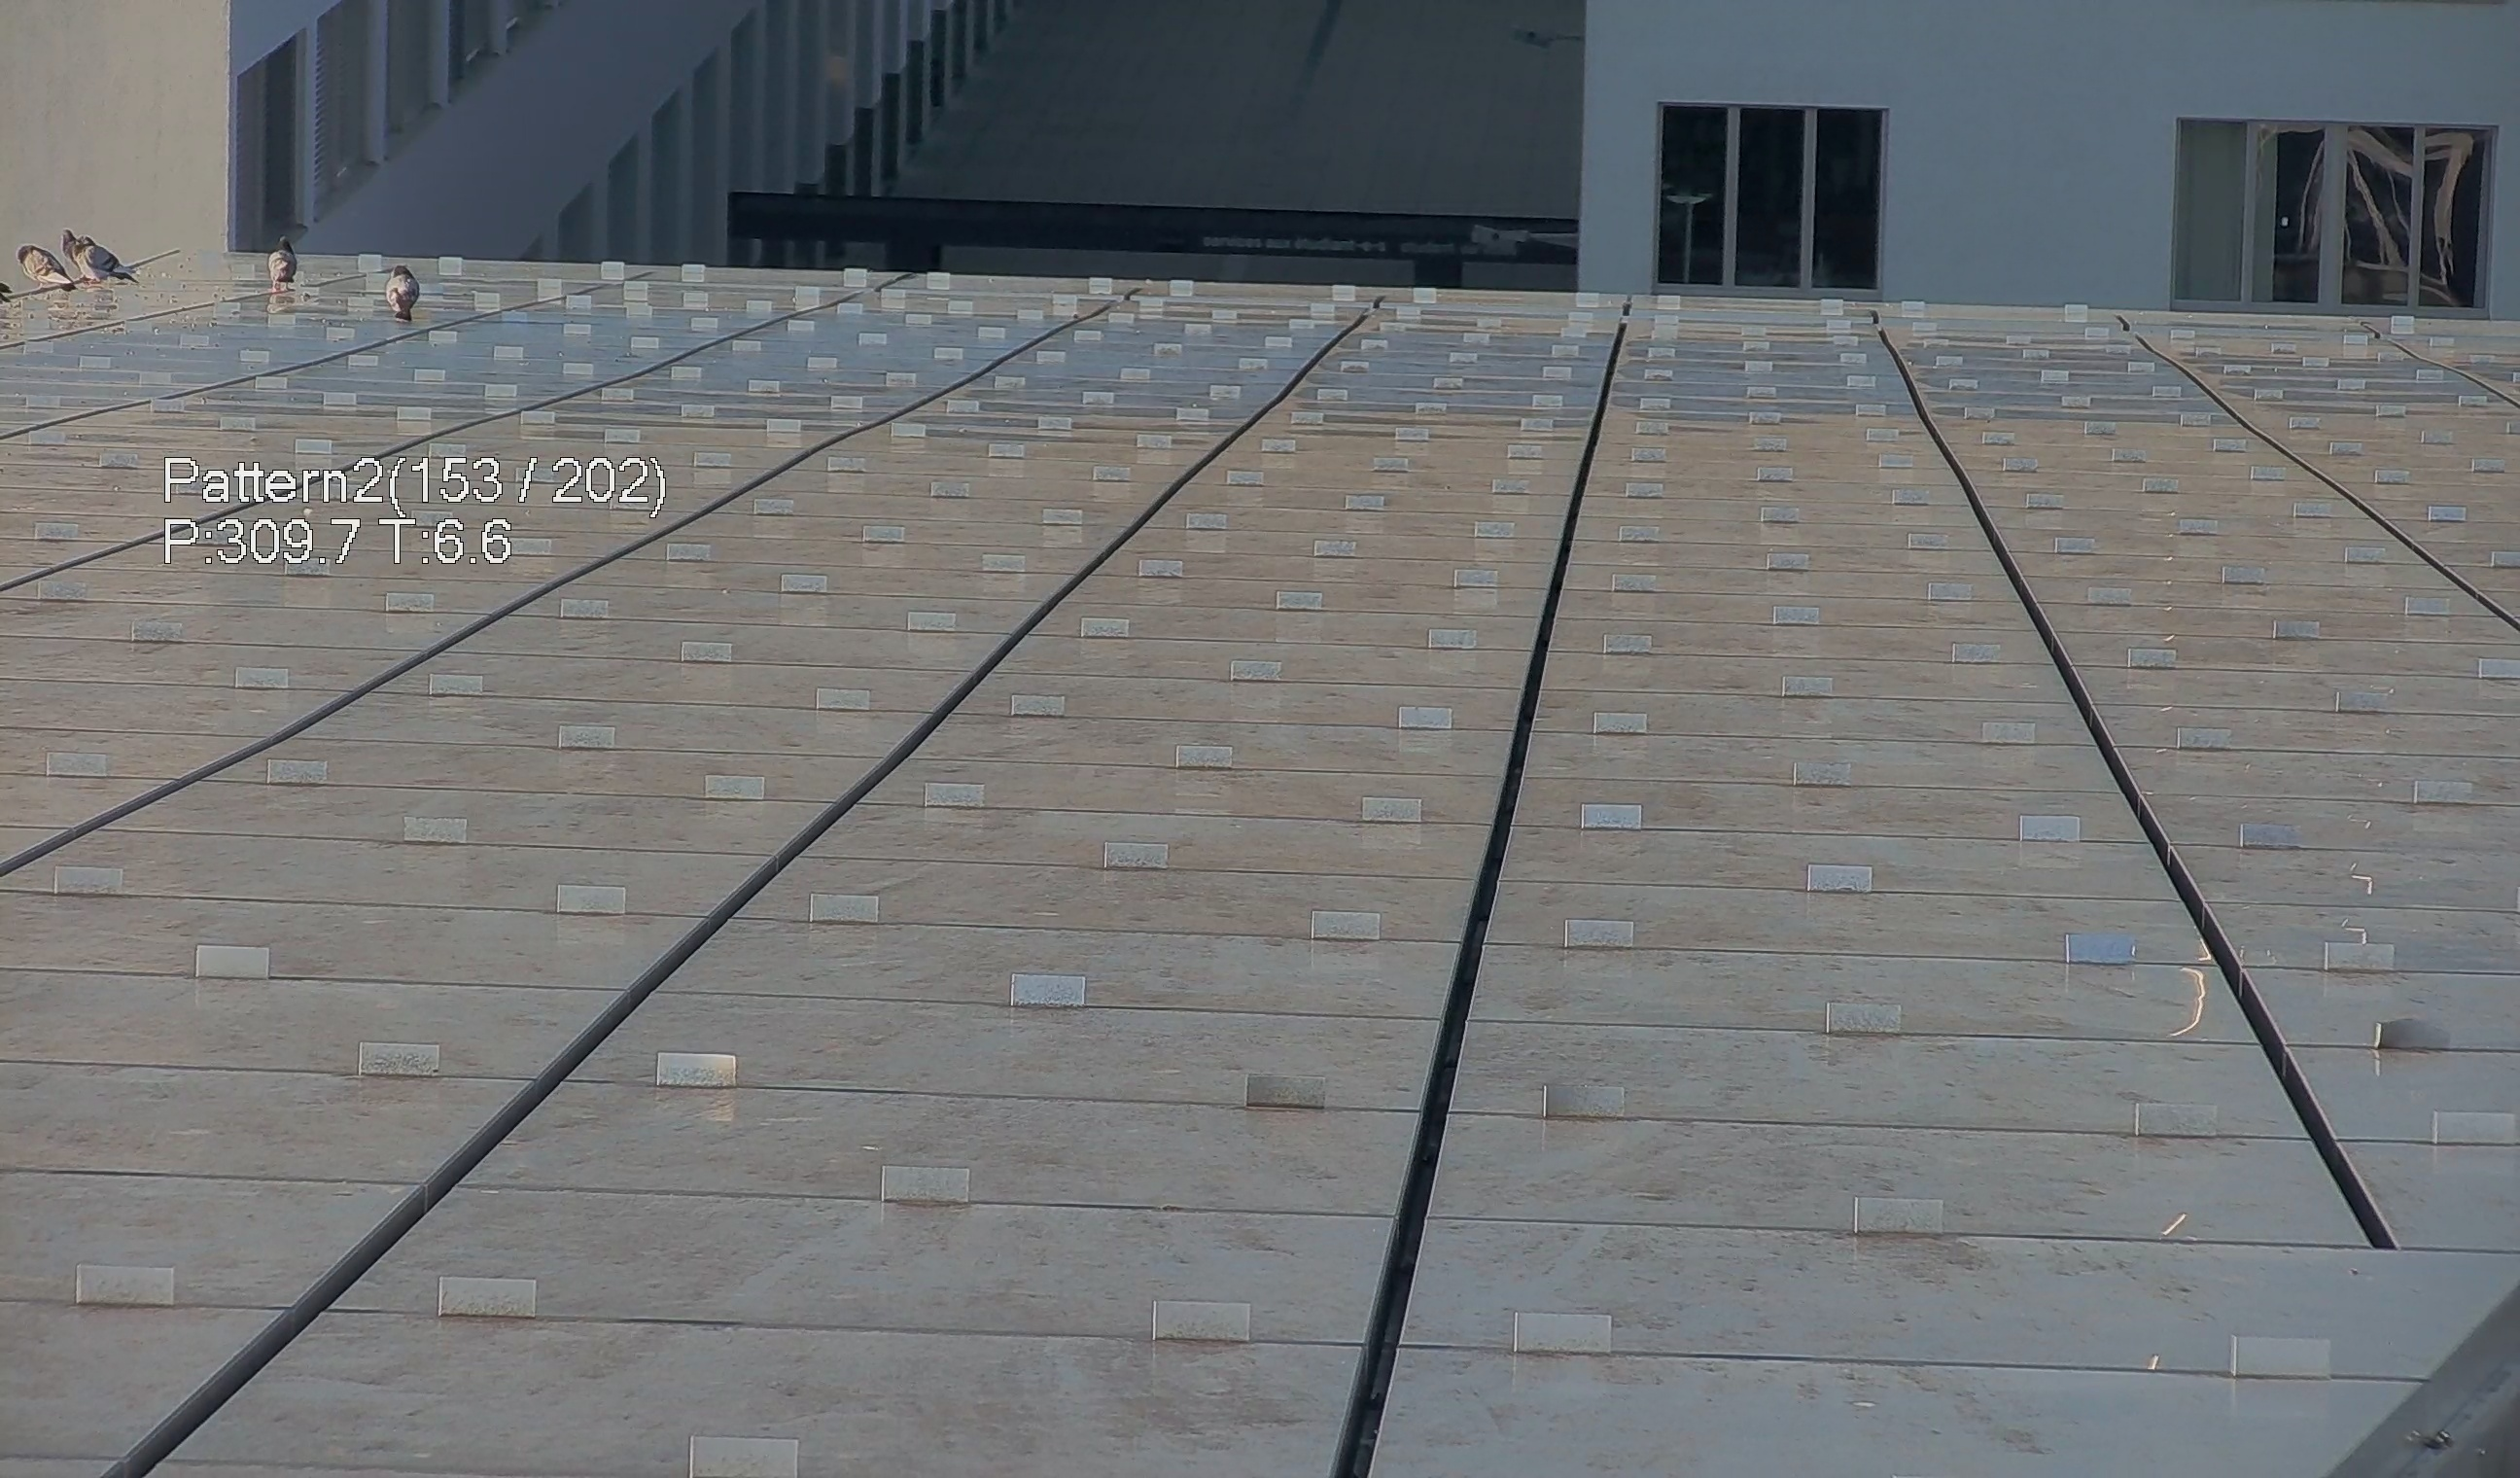Pigeon: (9, 243, 74, 294), (72, 234, 135, 283), (382, 260, 420, 327), (260, 234, 295, 297), (56, 227, 81, 264)
